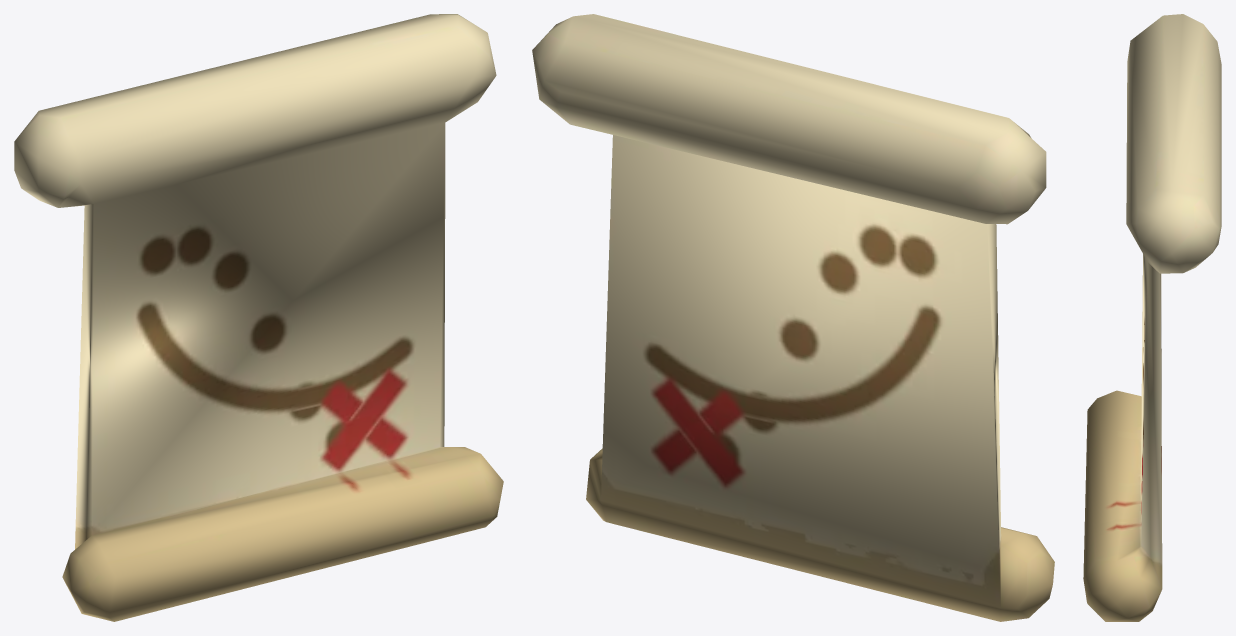
File: adventurer-map.glb
3 renders of one model, left to right at view 1: azimuth 30°, elevation 25°; view 2: azimuth 150°, elevation 25°; view 3: azimuth 270°, elevation 25°, orthographic. The views are drawn at different scales.
Parts seen in each view (by area): view 1: map; view 2: map; view 3: map.
Boxes of the visible parts, x1=… form: map: x1=14, y1=14, x2=503, y2=621; map: x1=532, y1=14, x2=1054, y2=621; map: x1=1083, y1=14, x2=1221, y2=621.
Size of the model in its own units: 0.1336 by 0.1325 by 0.0376.
1 material, 1 textured.
